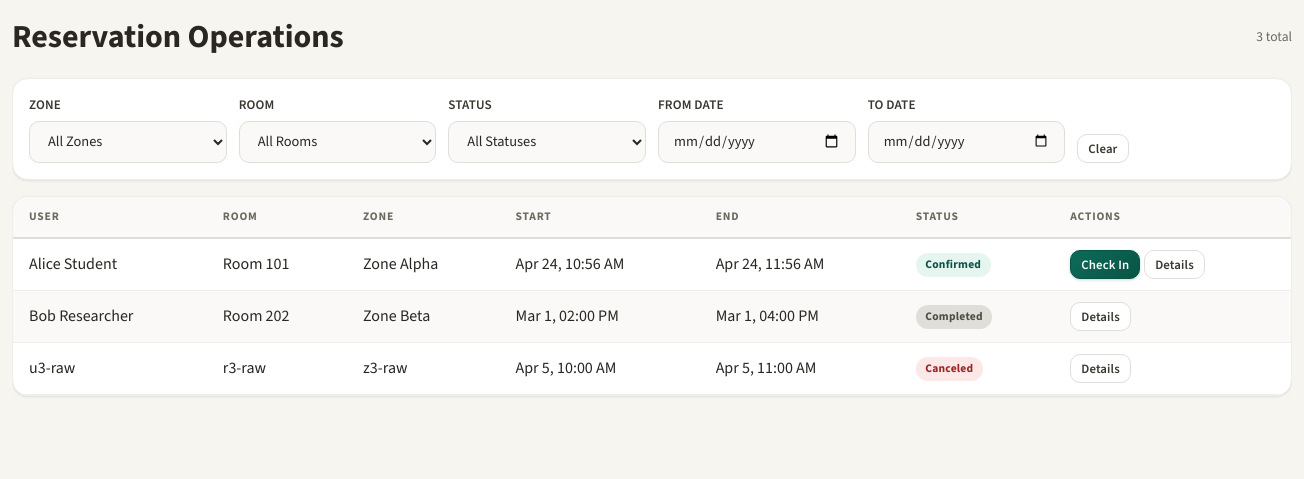
Test: ReservationOpsPage › Check-in action › shows success message after check-in
Click the button "Check In" at coordinates (1105, 264), box [1070,250,1140,279]
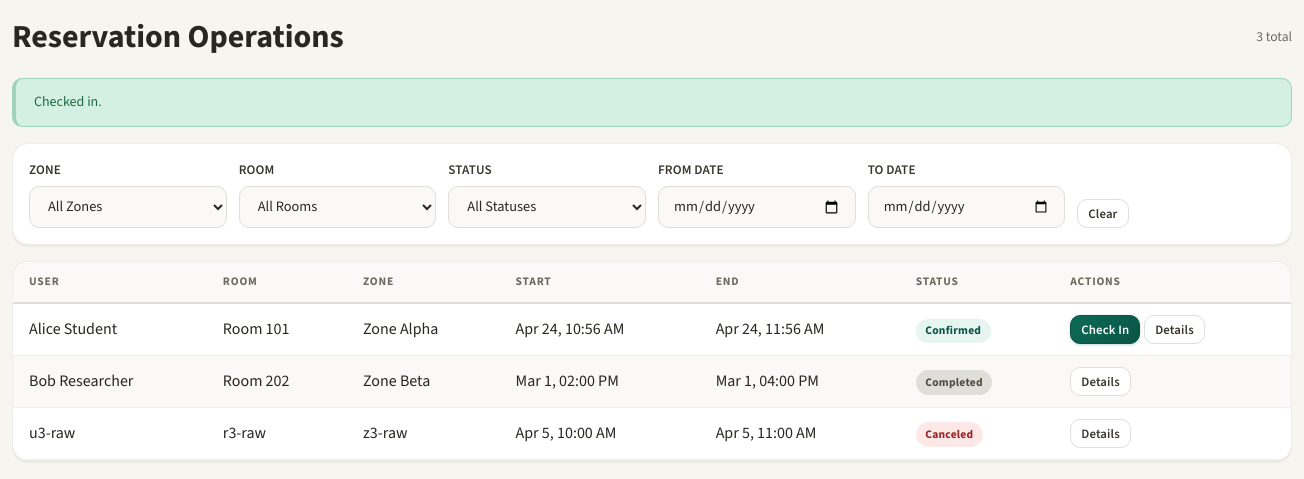
Expected: the text "Checked in." is shown, [12,78,1292,127]
